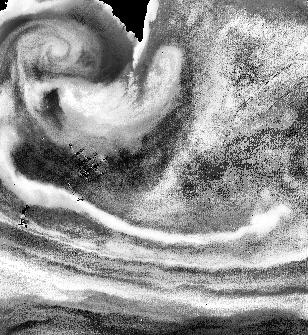AE: (8, 5, 101, 91)
